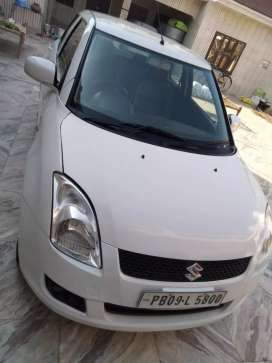nameplate: (143, 289, 228, 310)
